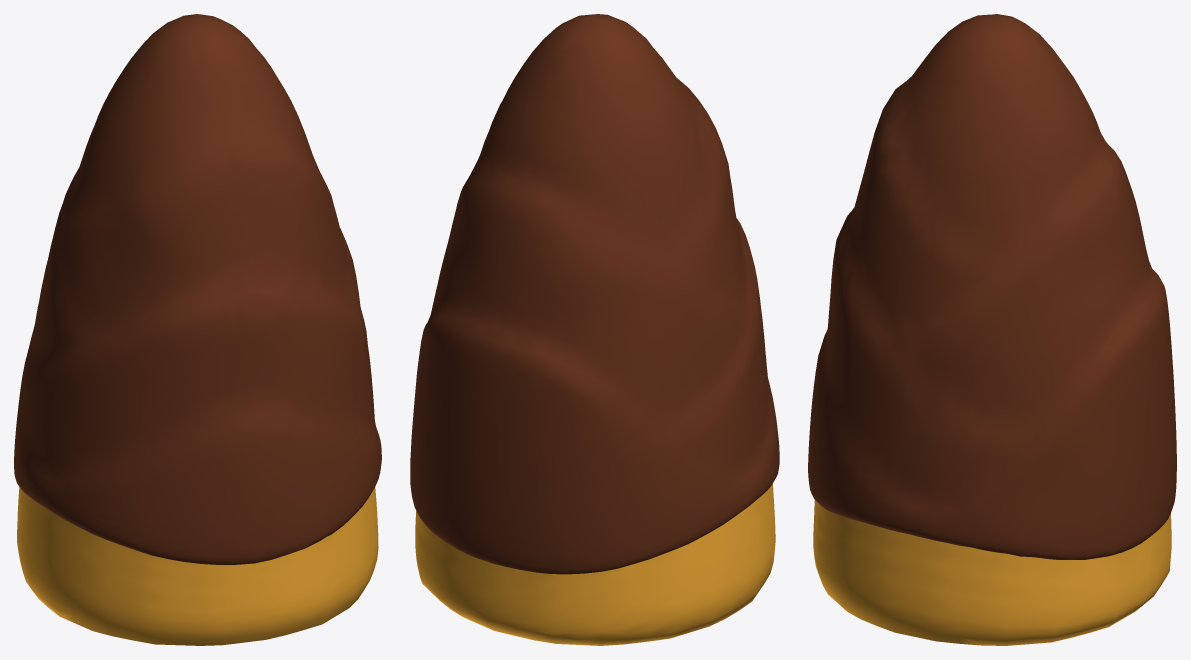
The model's file is bamboo4.glb.
The picture shows the model from 3 angles, left to right: view 1: azimuth 30°, elevation 25°; view 2: azimuth 150°, elevation 25°; view 3: azimuth 270°, elevation 25°; orthographic projection.
Visible parts, largest first — view 1: BambooBase_L_remesh; view 2: BambooBase_L_remesh; view 3: BambooBase_L_remesh.
Part boxes in pixels (x1=…): BambooBase_L_remesh: x1=14, y1=14, x2=381, y2=645; BambooBase_L_remesh: x1=410, y1=14, x2=779, y2=645; BambooBase_L_remesh: x1=808, y1=14, x2=1176, y2=645.
Bounding box in the file's own units: 0.4803 × 0.8129 × 0.4821.
1 material, 1 textured.
